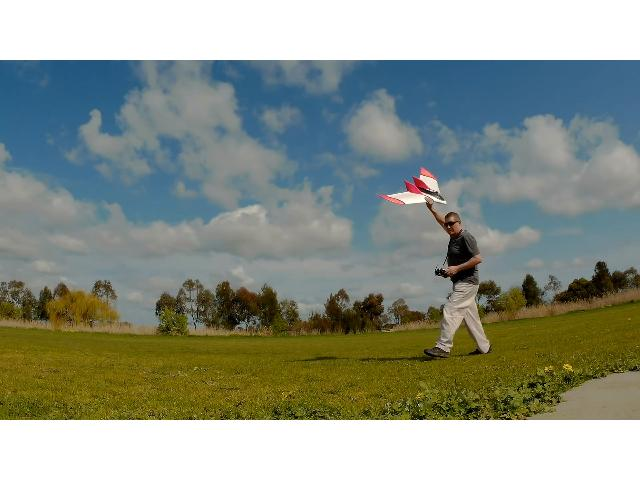Anti-Drone: (364, 160, 456, 213)
